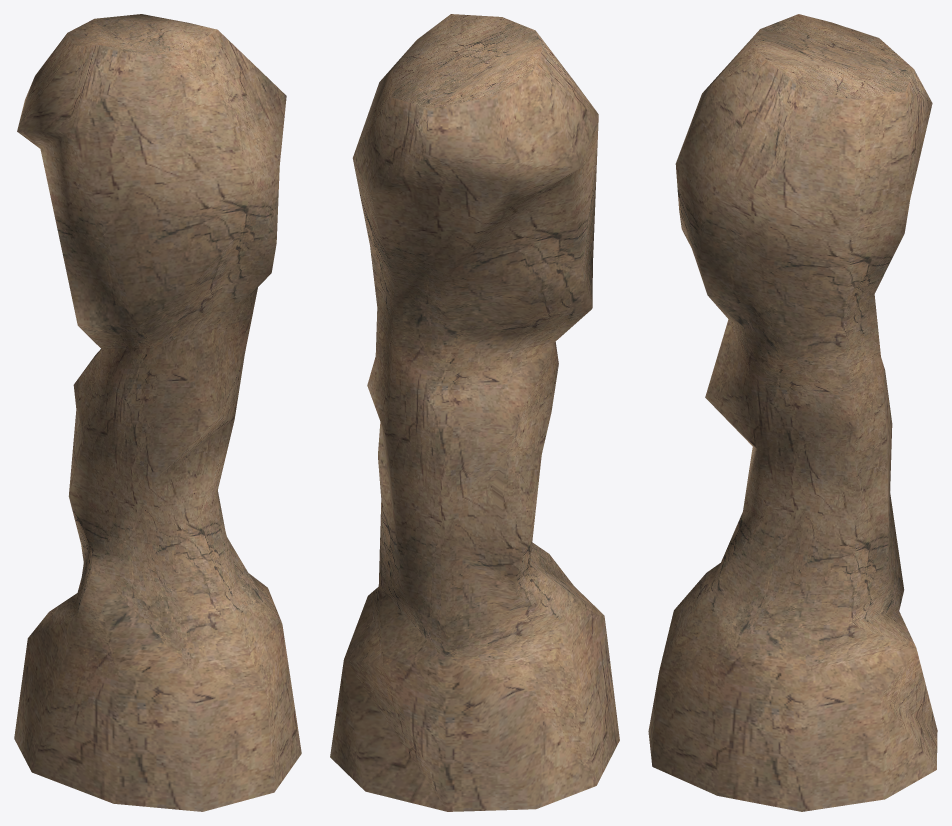
File: rock_tatt_spire_smooth_l1.fbx
The picture shows the model from 3 angles, left to right: view 1: azimuth 30°, elevation 25°; view 2: azimuth 150°, elevation 25°; view 3: azimuth 270°, elevation 25°; orthographic projection.
Visible parts, largest first — view 1: mesh_node; view 2: mesh_node; view 3: mesh_node.
Part boxes in pixels (bbox=[...]): mesh_node: bbox=[14, 14, 301, 811]; mesh_node: bbox=[330, 14, 619, 811]; mesh_node: bbox=[648, 14, 937, 811].
Size of the model in its own units: 25.02 by 67.13 by 24.95.
Materials: 1 (1 with a texture image).
